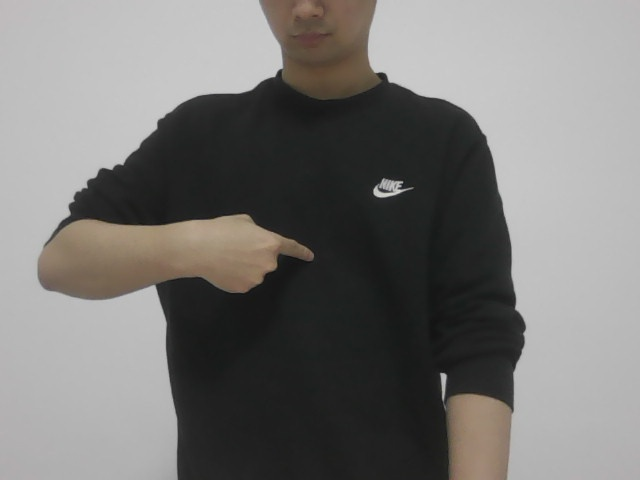I/me: (159, 203, 318, 303)
